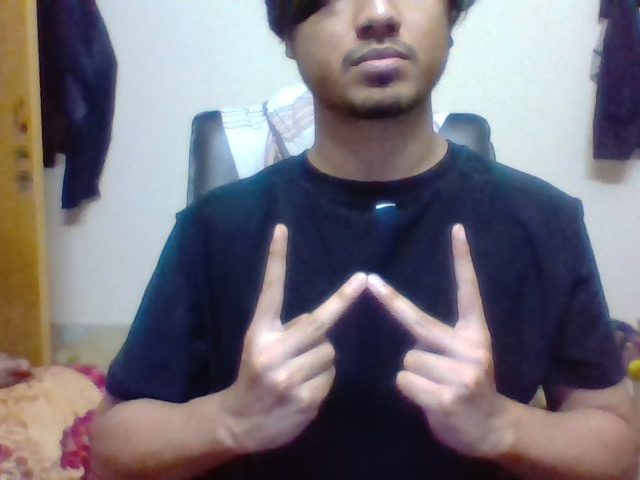W: (253, 216, 489, 351)
